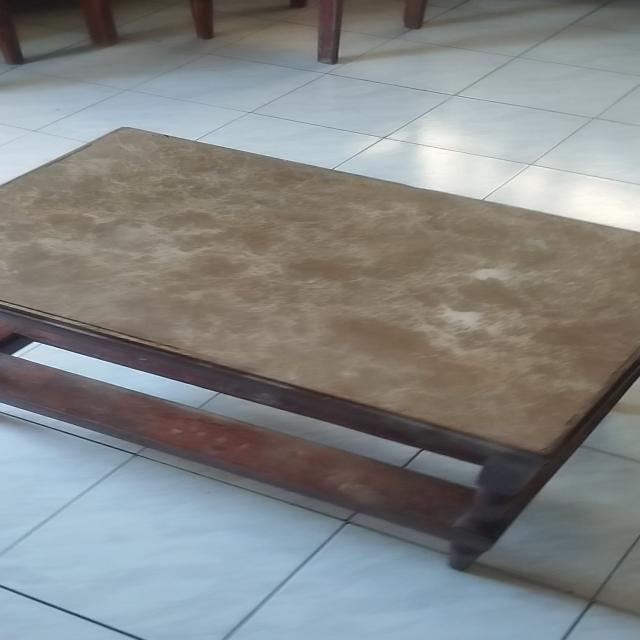table: (0, 124, 640, 576)
